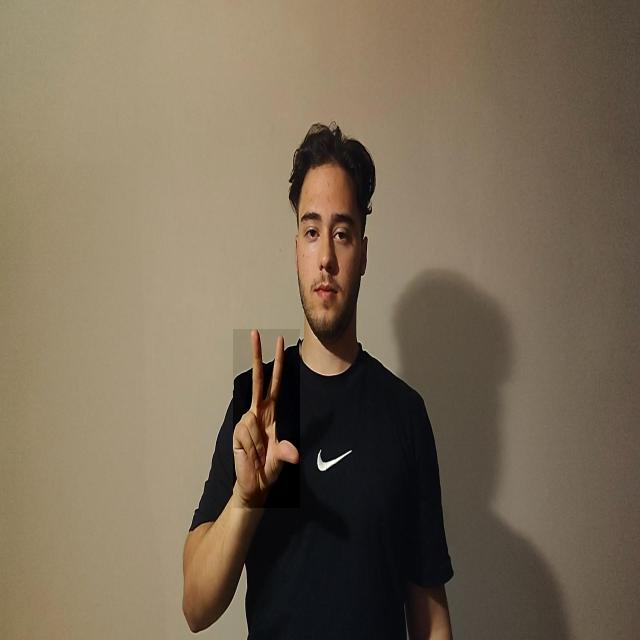no: (234, 330, 302, 510)
